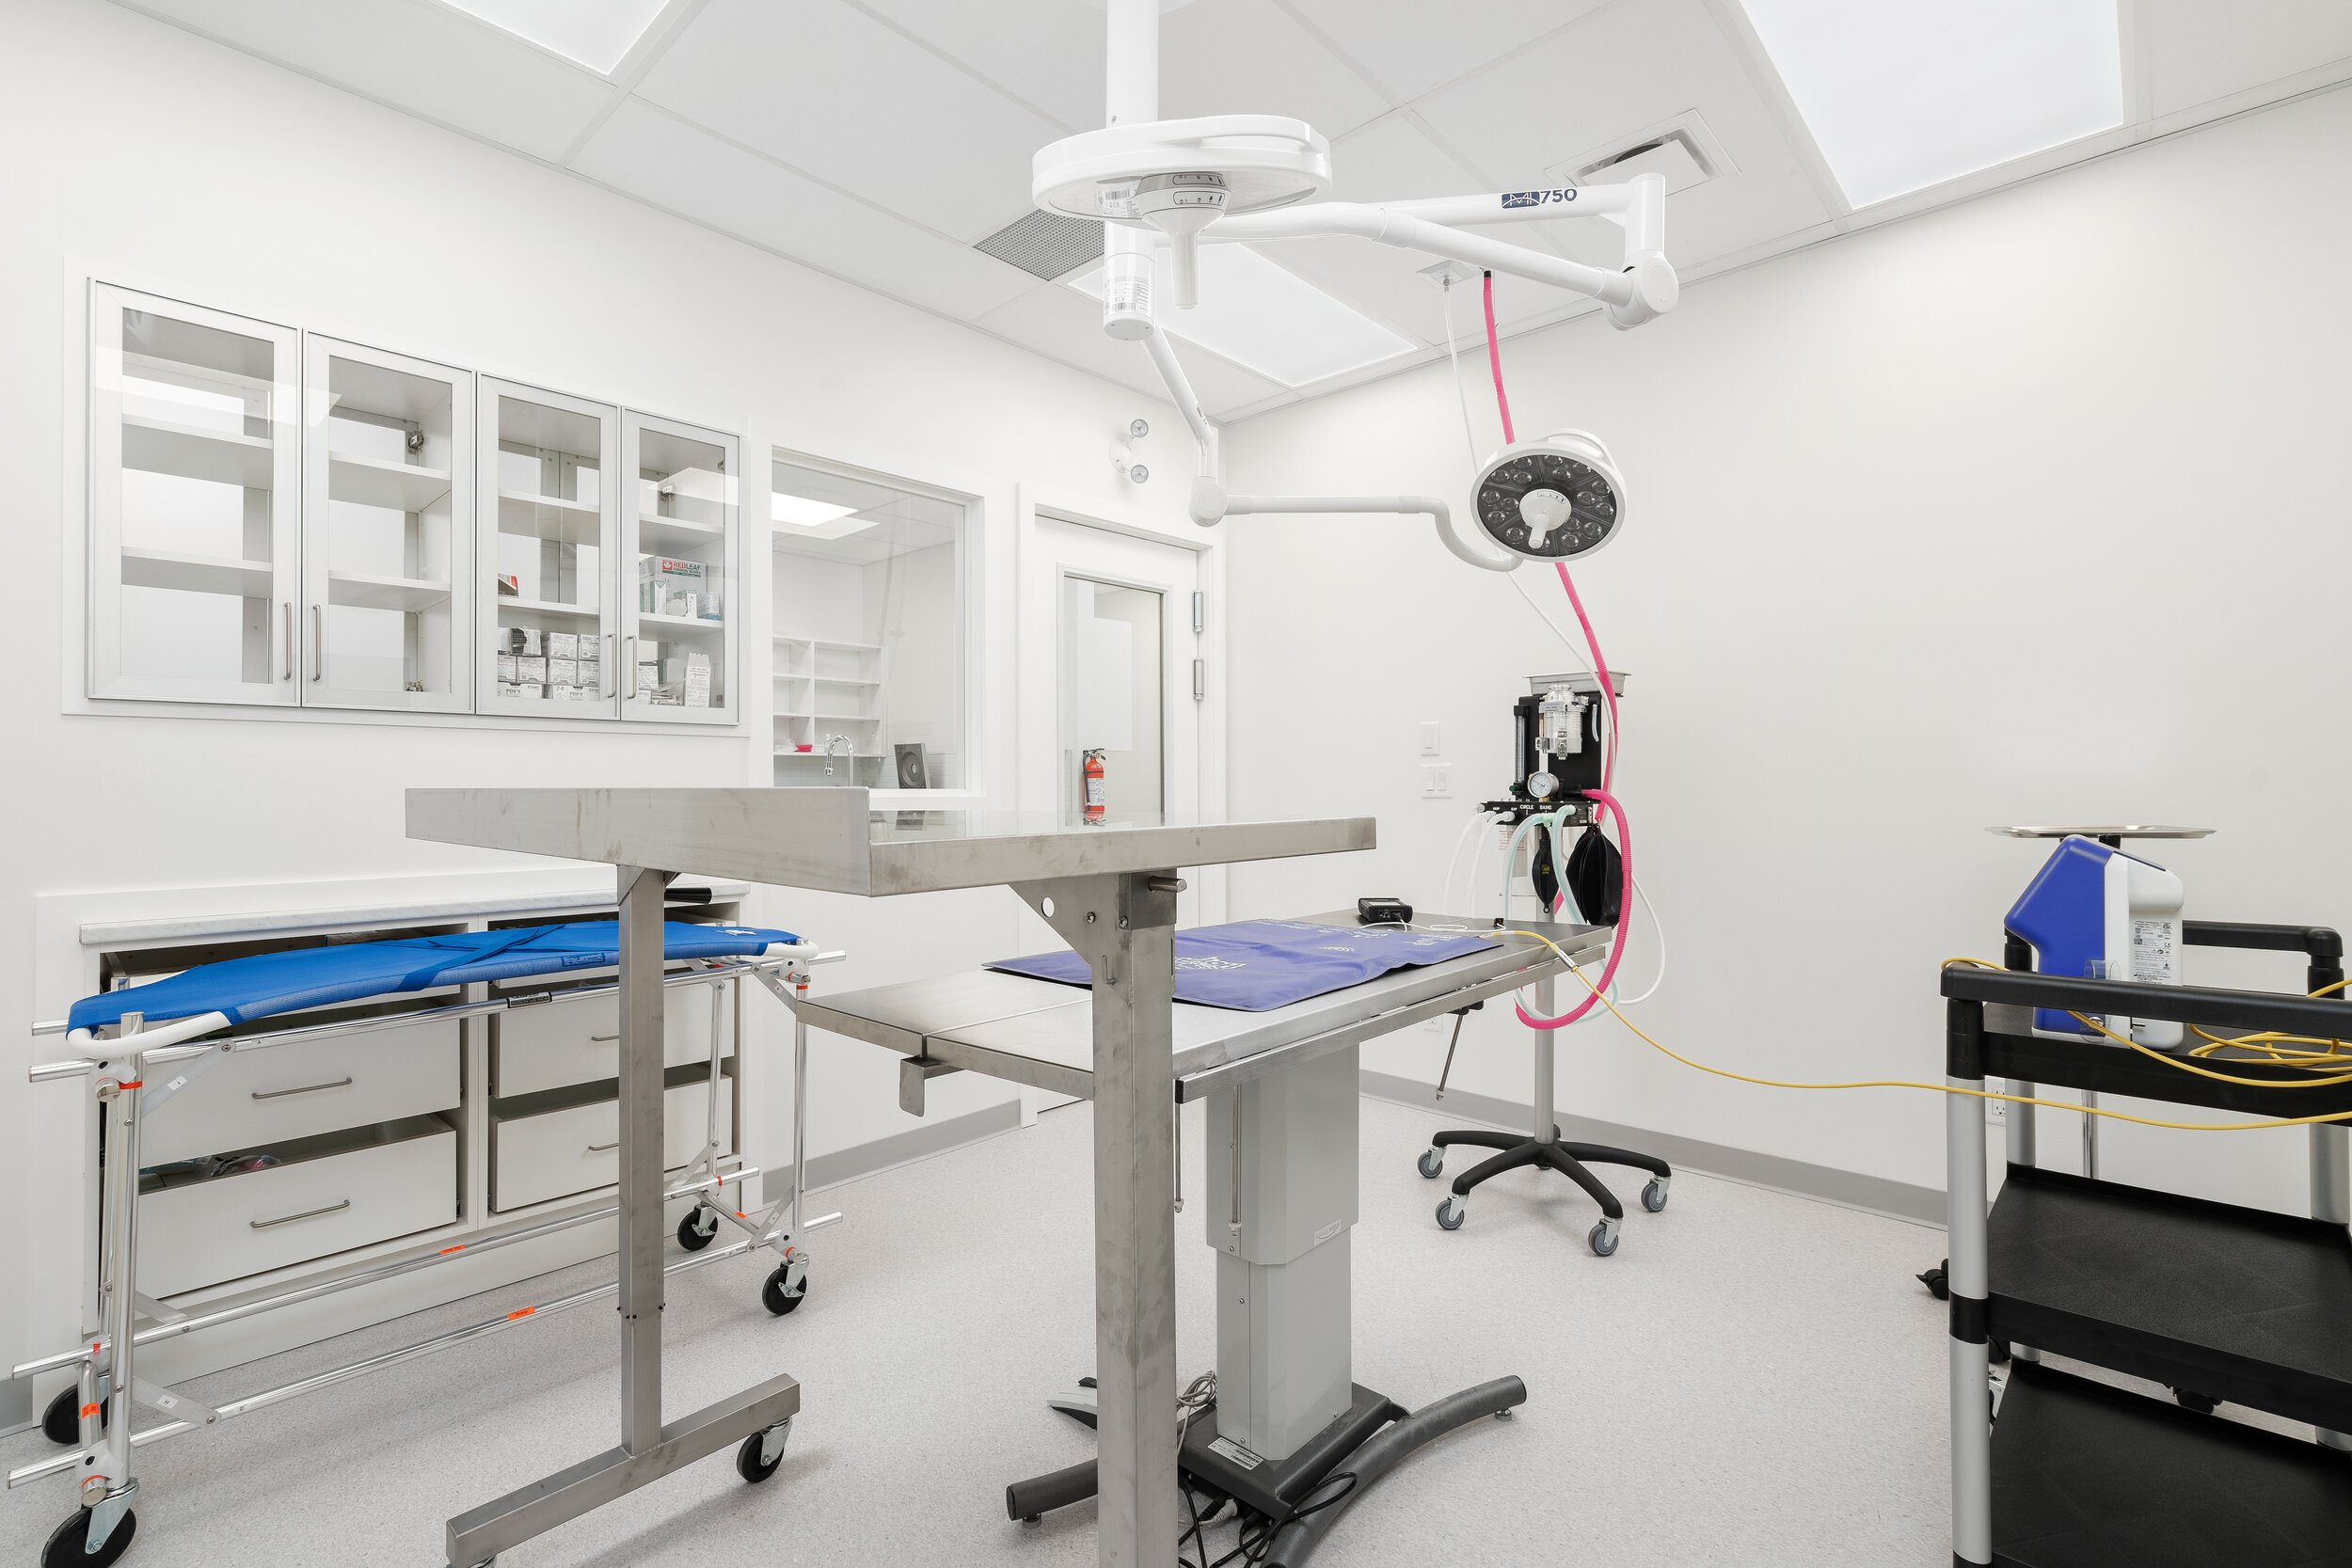breathing_tube: (1500, 801, 1634, 1036)
cabinet: (68, 294, 766, 717)
handle: (236, 1195, 345, 1237), (254, 1067, 352, 1097), (310, 602, 327, 686), (280, 600, 296, 684), (579, 1137, 628, 1164), (626, 630, 642, 703), (605, 630, 619, 700), (590, 1017, 618, 1048)
operating_bed: (784, 901, 1631, 1568)
surgical_light: (1034, 114, 1337, 234), (1470, 429, 1620, 565)
utility_cart: (409, 787, 1379, 1566), (66, 917, 856, 1545), (1944, 910, 2352, 1568)
